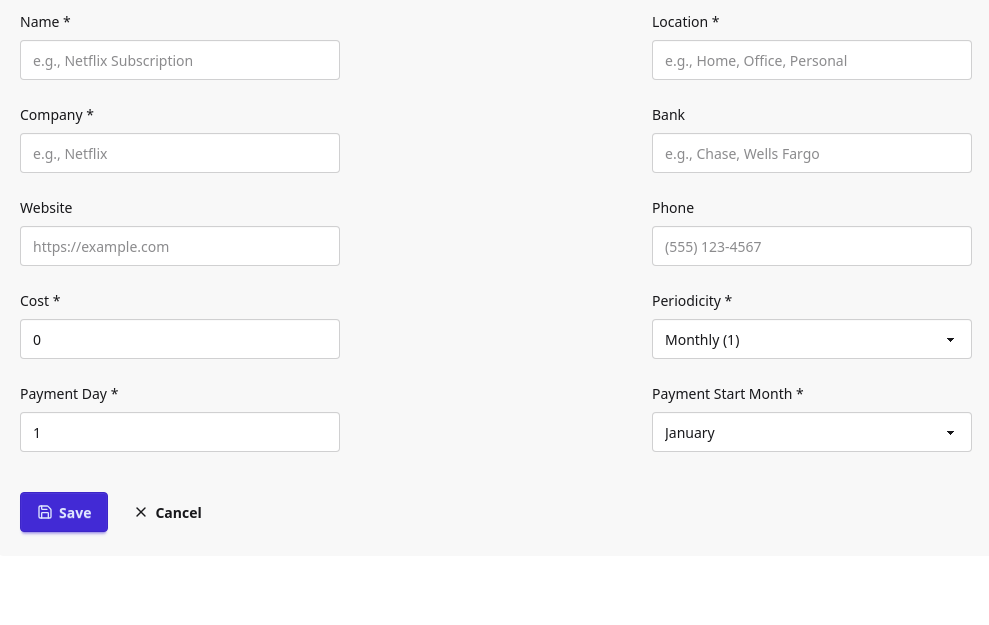
Scenario: PaymentForm › shows validation errors for required fields
Click the button "Save" at (64, 512), box [20, 492, 108, 532]
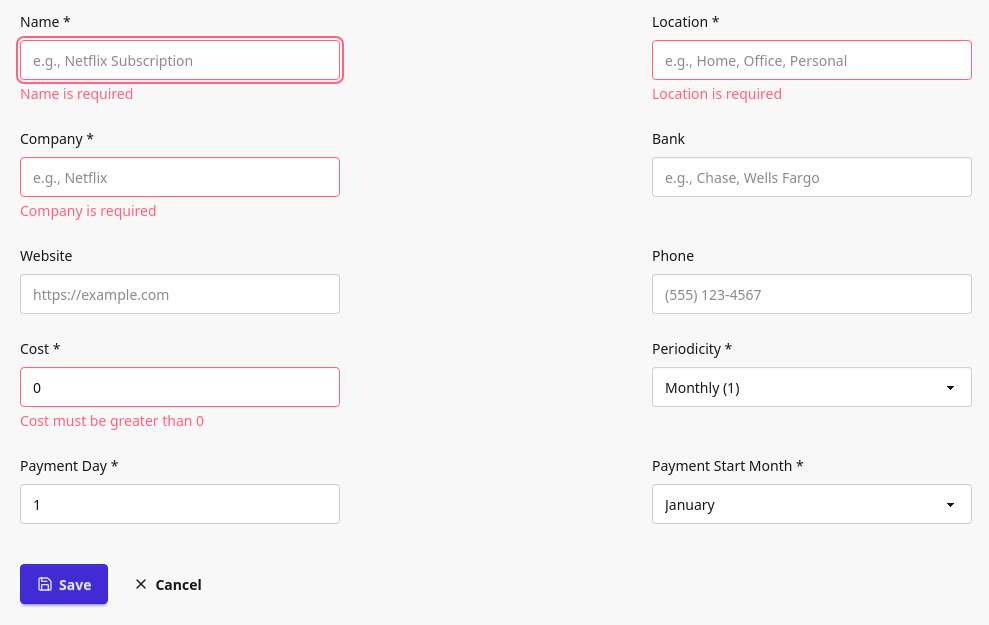
Result: the text "Name is required" is shown at [20, 84, 133, 103]
Result: the text "Location is required" is shown at [652, 84, 782, 103]
Result: the text "Company is required" is shown at [20, 201, 156, 220]
